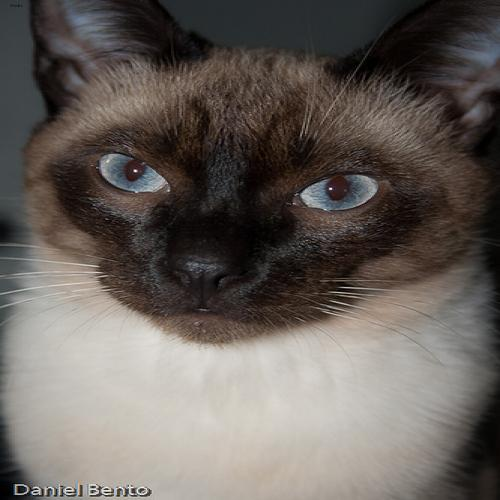siamese: (1, 1, 500, 342)
